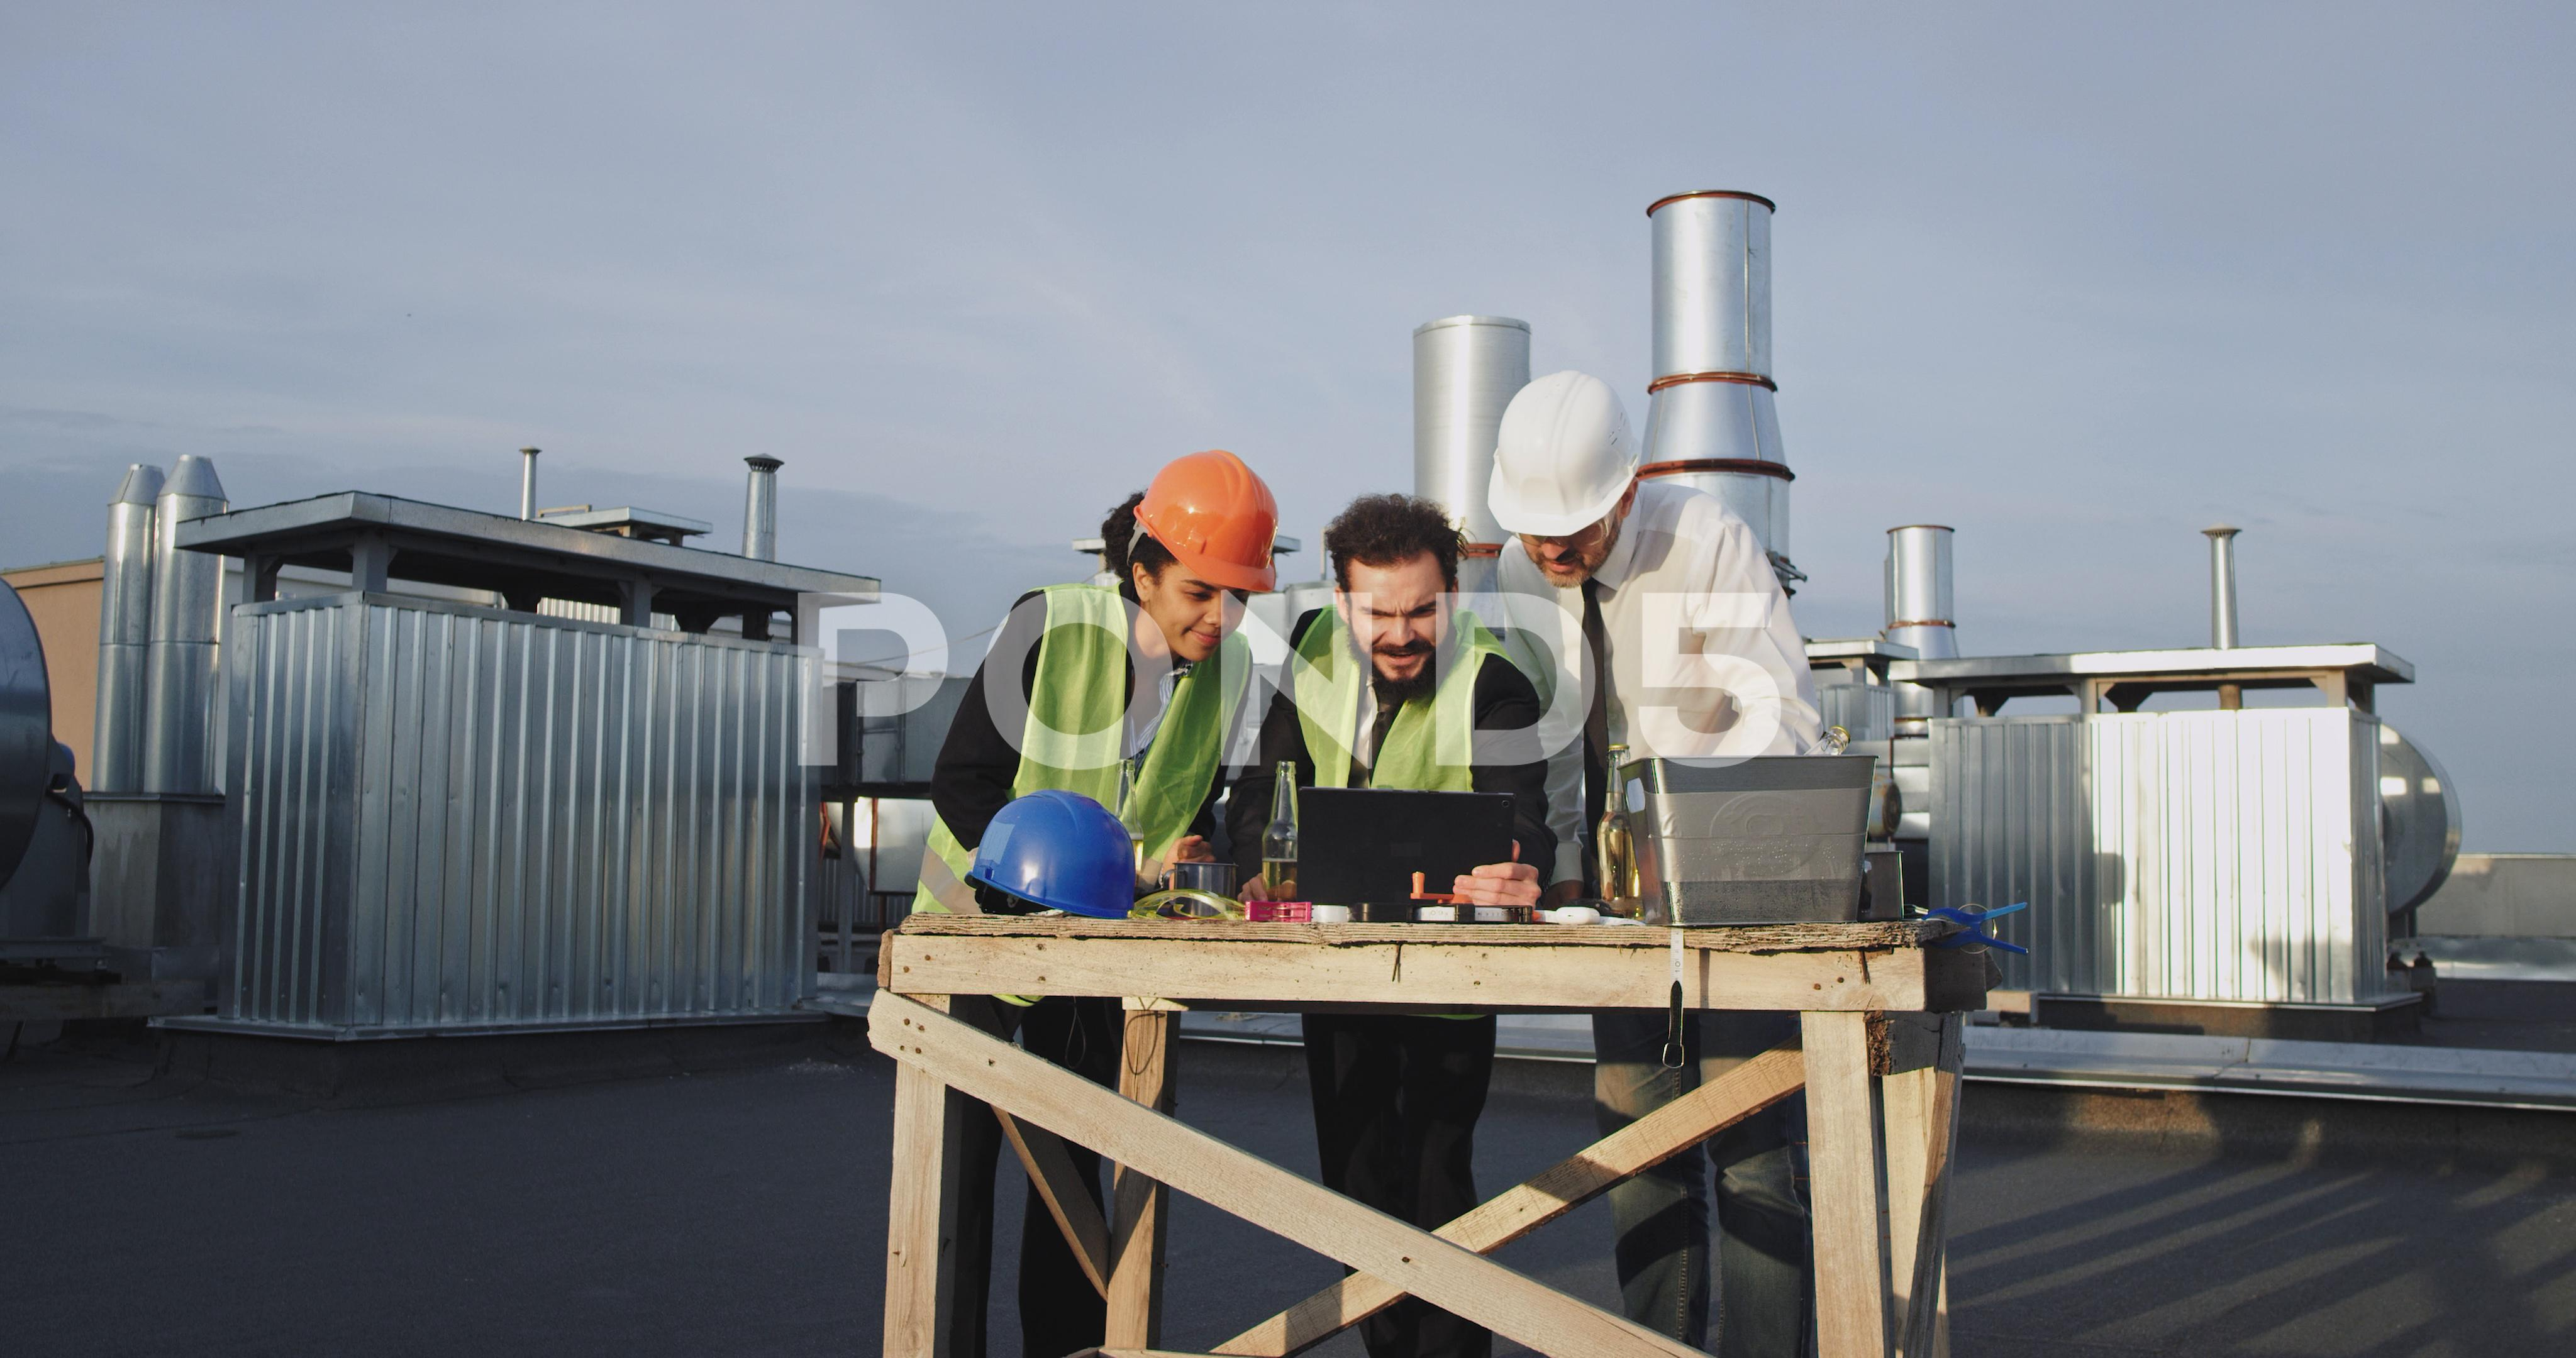hat: (1463, 375, 1711, 617), (1111, 412, 1309, 604)
no hat: (1302, 460, 1504, 708)
no vest: (1469, 497, 1790, 950)
vest: (944, 551, 1296, 950), (1233, 598, 1570, 915)
